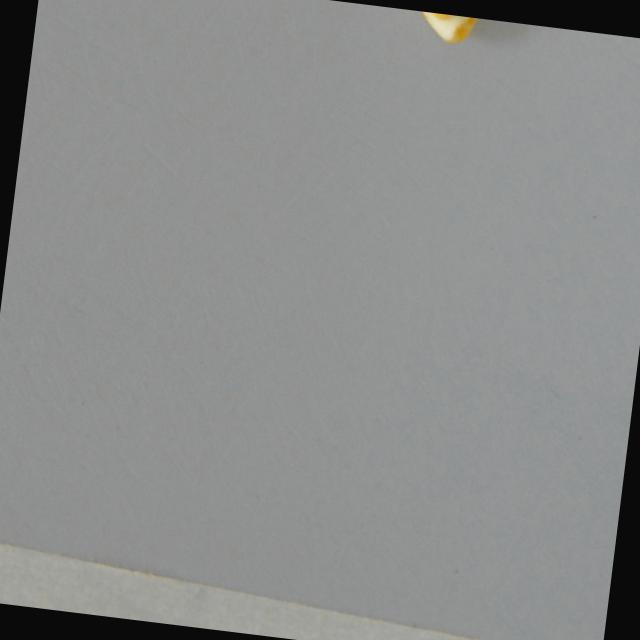pelicula: (413, 9, 494, 48)
